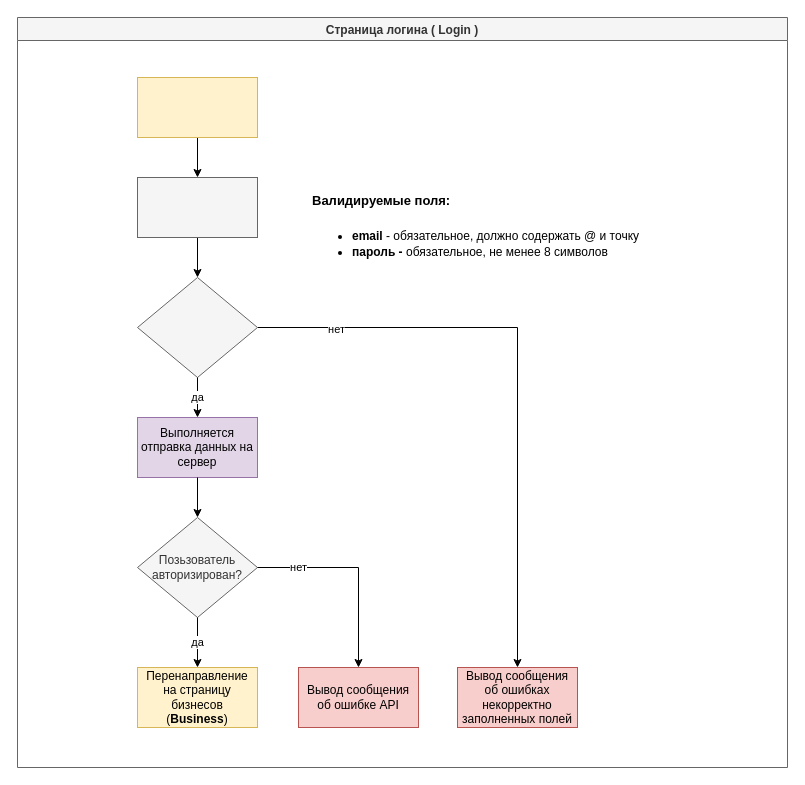
This 805x785 diagram has some shape labels left out. Each missing label, with the centre of its shape:
"Данные валидны?" belongs at point 197,327.
"Заполнение и отправка формы" belongs at point 197,207.
"Пользователь переходит на страницу" belongs at point 197,107.
